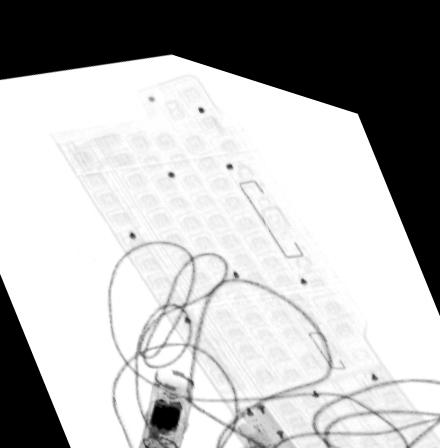Baton: (136, 356, 197, 448)
